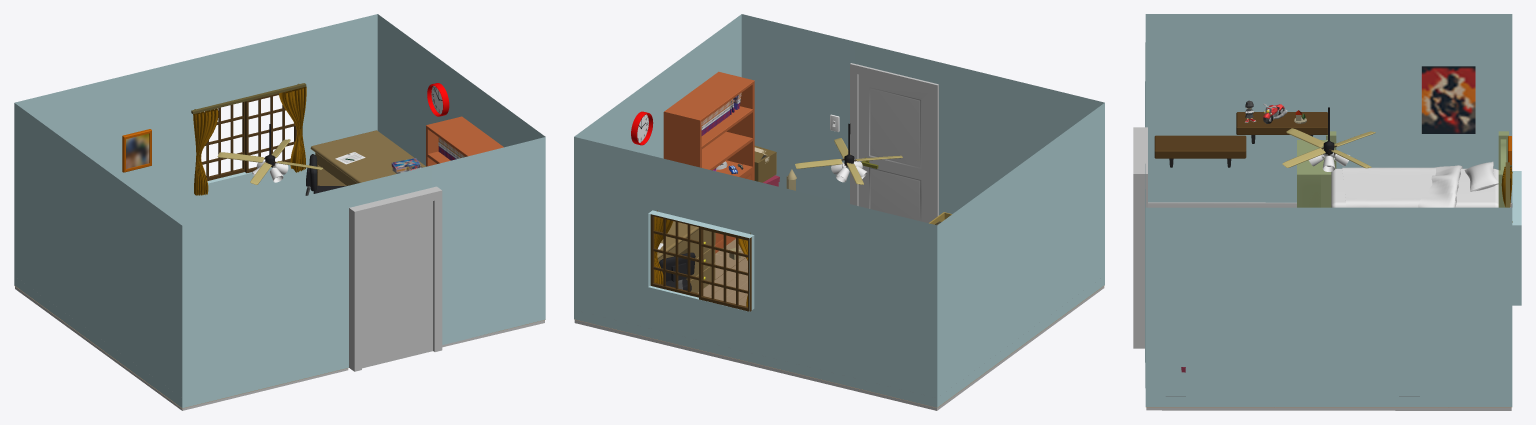
File: Map_0209_Ver2.fbx
3 renders of one model, left to right at view 1: azimuth 30°, elevation 25°; view 2: azimuth 150°, elevation 25°; view 3: azimuth 270°, elevation 25°, orthographic. The views are drawn at different scales.
Visible parts, largest first — view 1: Part_1013, Part_1011, Part_1003, Part_1012, polySurface616, Fan; view 2: Part_1013, Part_1011, Part_1003, Part_1001, Part_1012, Fan, polySurface616; view 3: Part_1013, Part_1012, Part_1003, Part_1011, Fan, Part_1014, Part_1001.
Part boxes in pixels (left/top/right/bottom): Part_1013: left=14, top=14, right=545, bottom=410; Part_1011: left=201, top=90, right=503, bottom=185; Part_1003: left=126, top=86, right=465, bottom=195; Part_1012: left=191, top=83, right=442, bottom=195; polySurface616: left=122, top=83, right=449, bottom=172; Fan: left=217, top=139, right=323, bottom=184; Part_1013: left=574, top=14, right=1104, bottom=410; Part_1011: left=650, top=71, right=754, bottom=311; Part_1003: left=654, top=93, right=839, bottom=306; Part_1001: left=575, top=239, right=1104, bottom=407; Part_1012: left=638, top=122, right=878, bottom=291; Fan: left=795, top=138, right=902, bottom=184; polySurface616: left=631, top=111, right=951, bottom=279; Part_1013: left=1133, top=14, right=1521, bottom=410; Part_1012: left=1297, top=107, right=1511, bottom=207; Part_1003: left=1181, top=66, right=1512, bottom=372; Part_1011: left=1154, top=112, right=1327, bottom=167; Fan: left=1282, top=128, right=1375, bottom=168; Part_1014: left=1245, top=100, right=1287, bottom=123; Part_1001: left=1146, top=407, right=1511, bottom=407.
Bounding box in the file's own units: 5.01 × 2.45 × 4.24.
7 materials, 7 textured.
